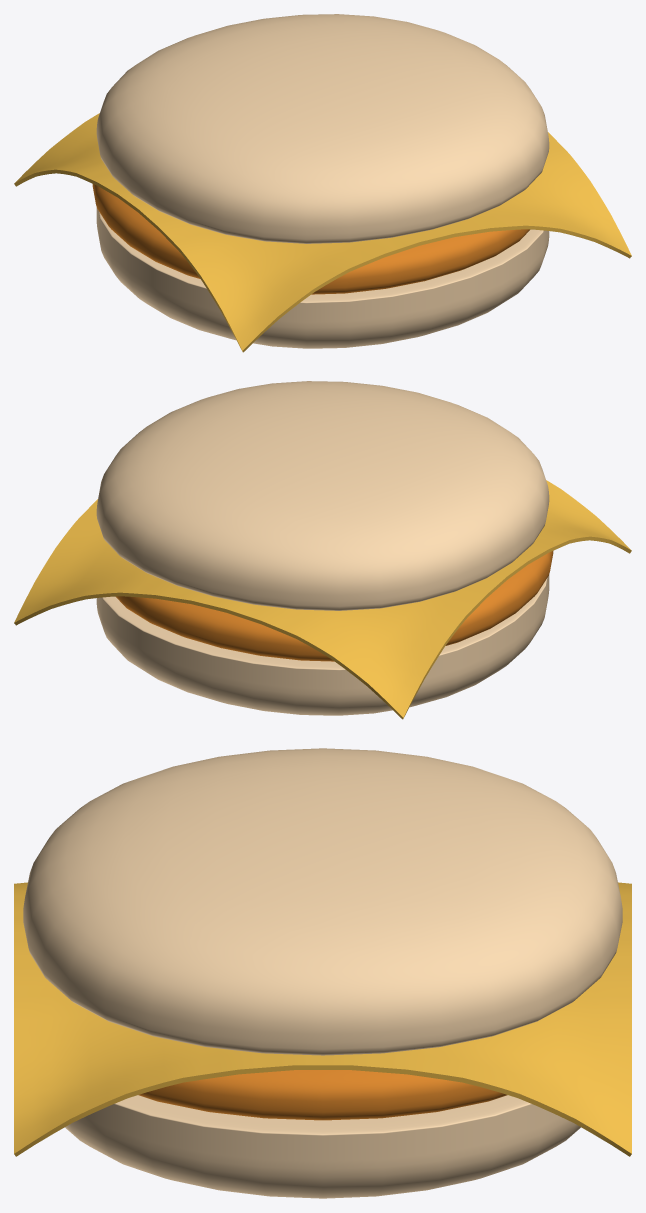
3 views of the same model, one above another, from view 1: azimuth 30°, elevation 25°; view 2: azimuth 150°, elevation 25°; view 3: azimuth 270°, elevation 25° (orthographic). The views are drawn at different scales.
Parts seen in each view (by area): view 1: TopBun, Cheese, BottomBun, Cutlet; view 2: TopBun, Cheese, BottomBun, Cutlet; view 3: TopBun, Cheese, BottomBun, Cutlet.
Part boxes in pixels (<box>): TopBun: <box>96,14,549,243</box>; Cheese: <box>14,113,631,352</box>; BottomBun: <box>96,208,549,348</box>; Cutlet: <box>92,184,529,294</box>; TopBun: <box>96,381,549,610</box>; Cheese: <box>14,480,631,719</box>; BottomBun: <box>96,575,549,715</box>; Cutlet: <box>116,551,553,661</box>; TopBun: <box>23,748,622,1055</box>; Cheese: <box>14,882,631,1156</box>; BottomBun: <box>65,1095,580,1198</box>; Cutlet: <box>138,1070,507,1120</box>.
Bounding box in the file's own units: 9.33 × 4.9 × 9.45.
